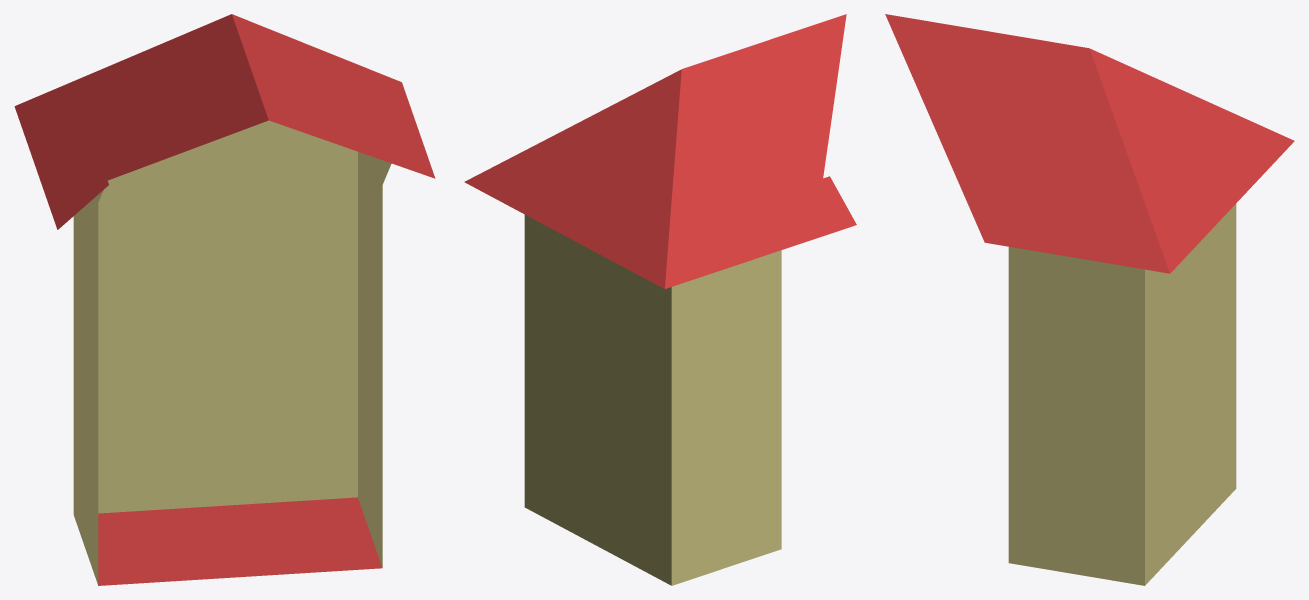
3 views of the same model, side by side, from view 1: azimuth 30°, elevation 25°; view 2: azimuth 150°, elevation 25°; view 3: azimuth 270°, elevation 25° (orthographic). The views are drawn at different scales.
Size of the model in its own units: 9.07 by 9.09 by 11.52.
